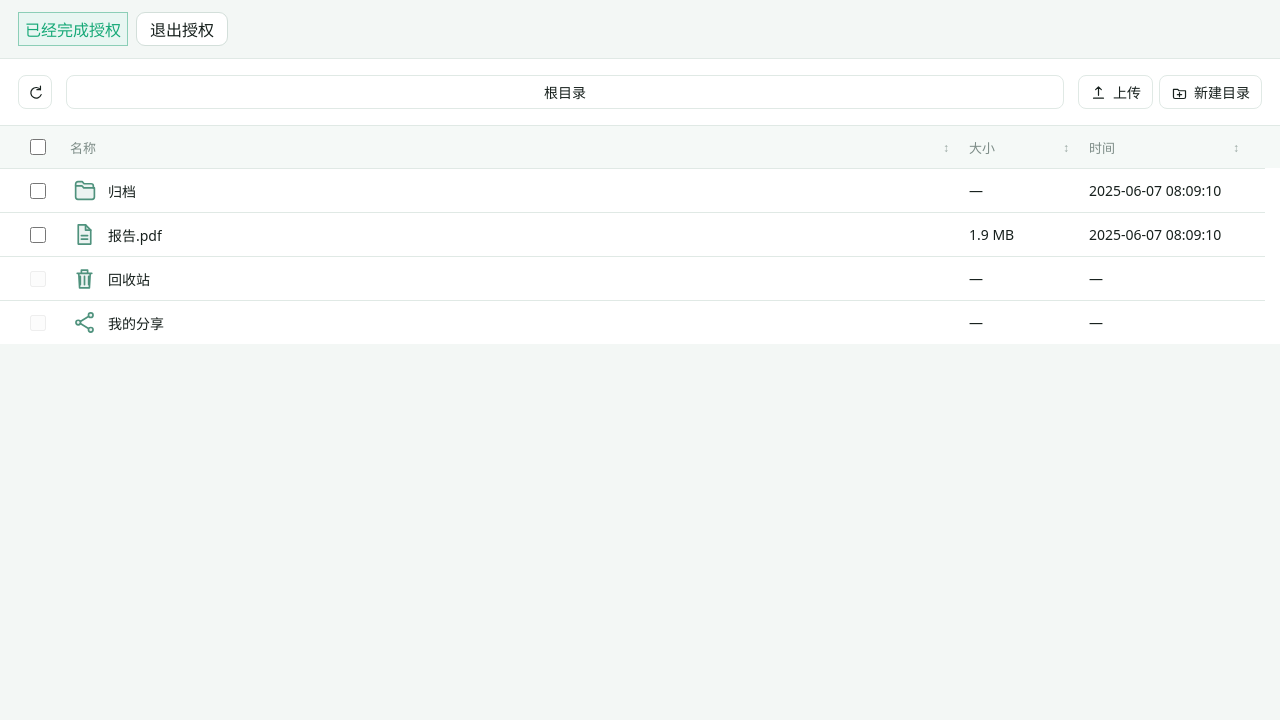
Test case: keeps real upload progress and offers control retry when pause fails
The image size is (1280, 720).
Expected: the element named "夸克网盘文件" is shown, [0,126,1279,344]
Click the button "上传": (1116, 92) [1078,75,1153,109]
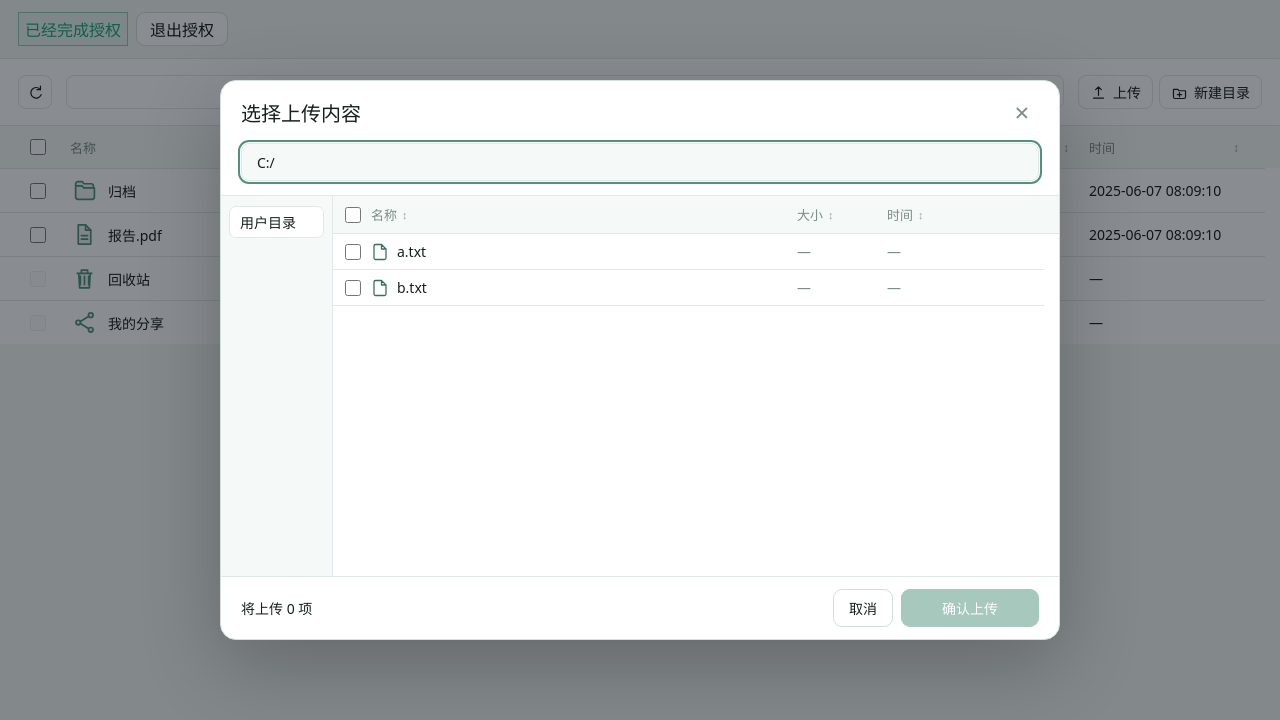
Click the checkbox named "全选当前目录": (353, 214) [345,206,361,222]
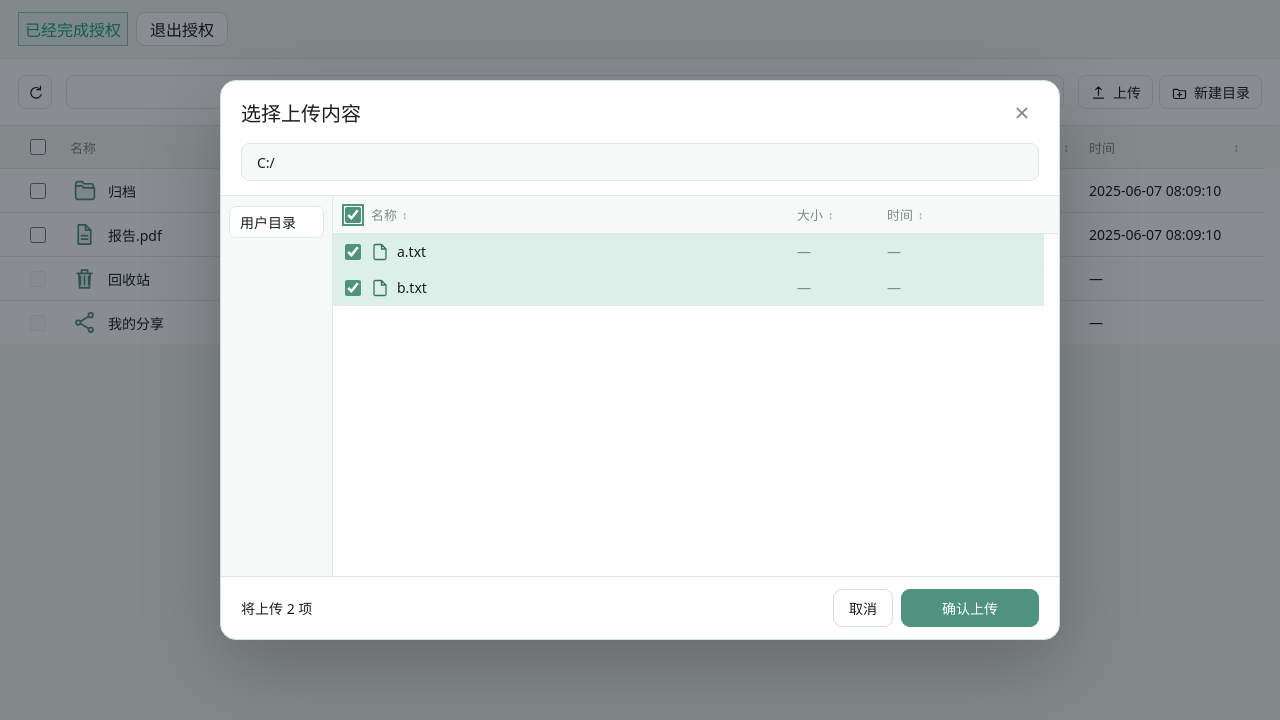
Click the button "确认上传": (970, 608) [901,589,1039,627]
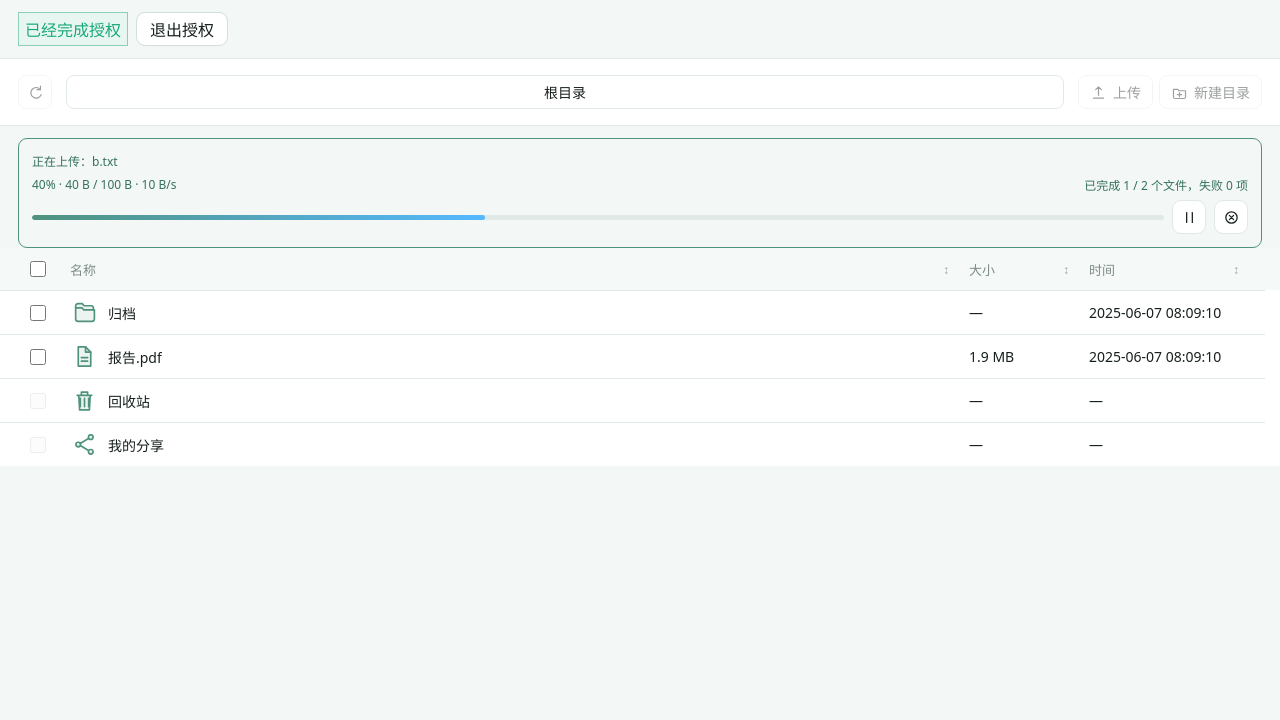
Click the button named "暂停上传": (1189, 217) [1172,200,1206,234]
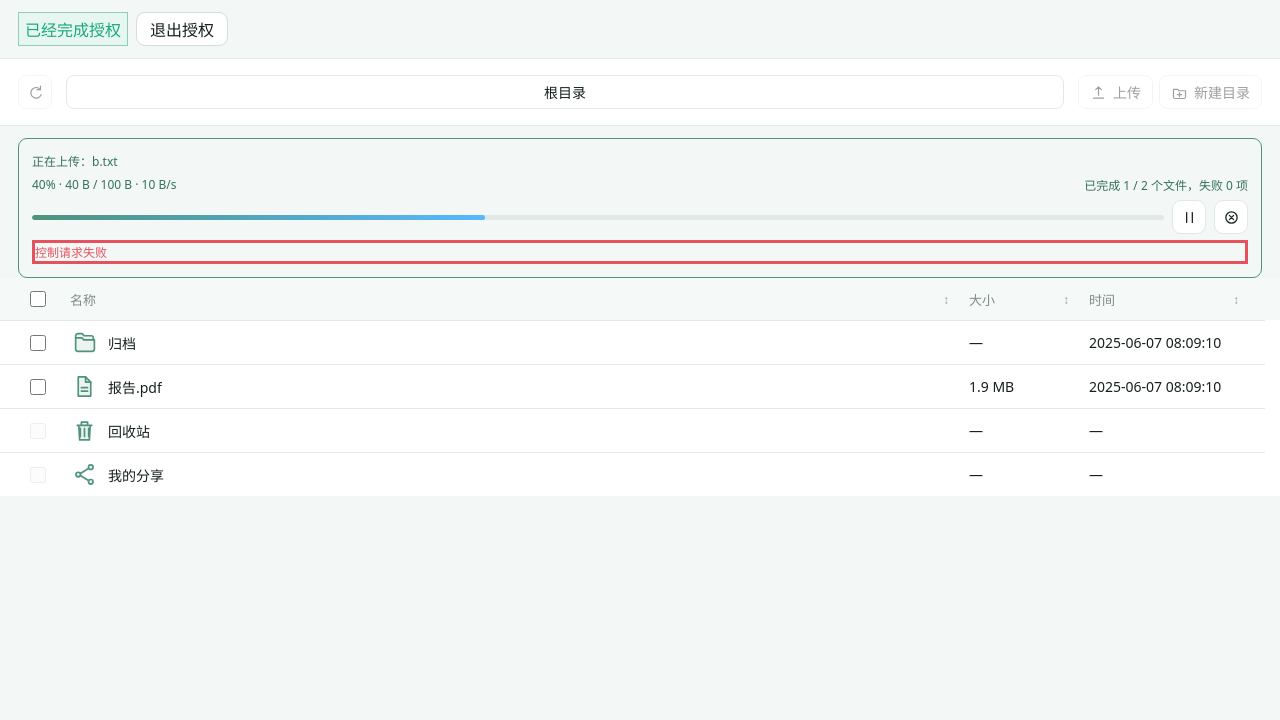
Now the button named "暂停上传" is enabled, box [1172,200,1206,234]
Now the text "控制请求失败" is shown, box [32,240,1248,264]
